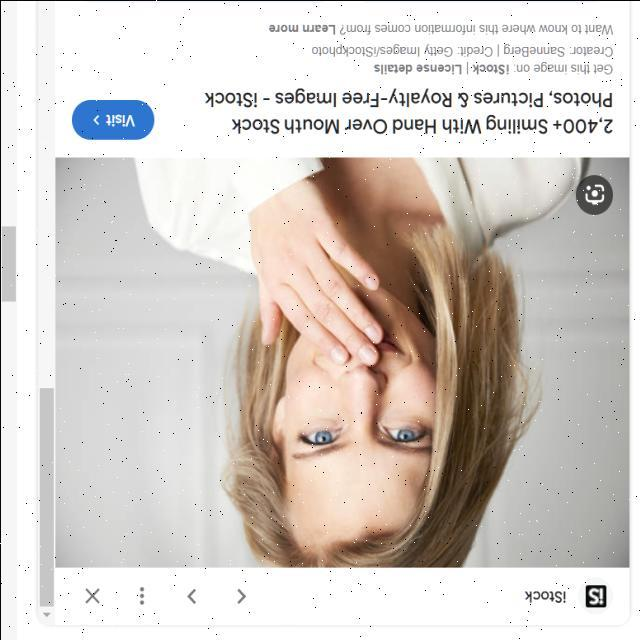face_with_hand: (265, 274, 432, 528)
